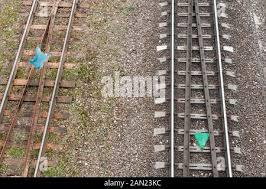Dust_screen: (189, 129, 211, 151)
Plastic: (31, 46, 53, 75)
